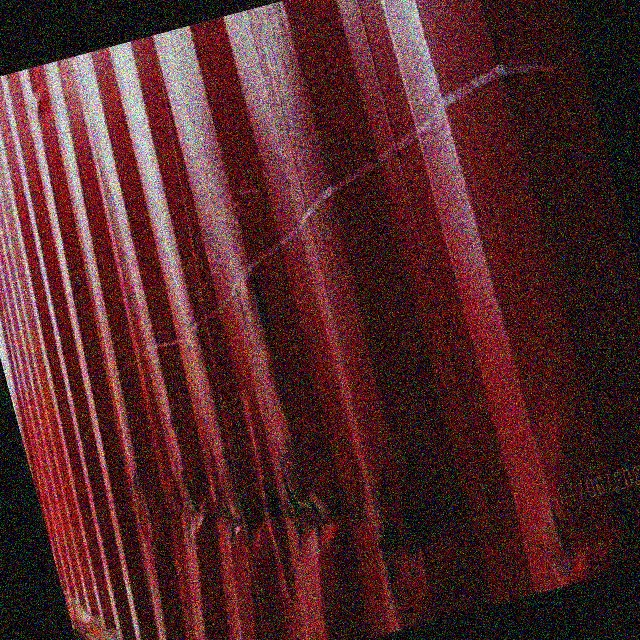Dent: (124, 394, 492, 640)
